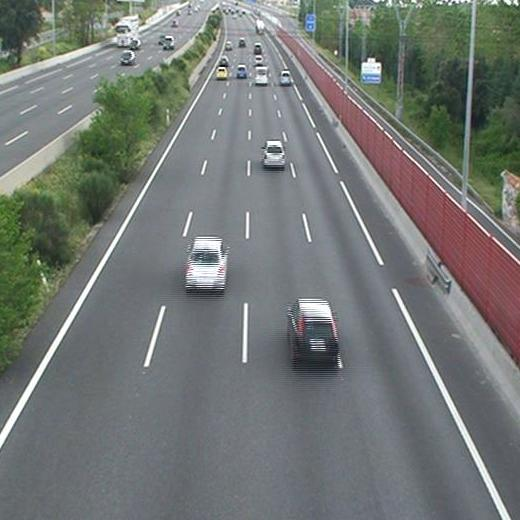car: (289, 300, 338, 358), (184, 237, 226, 289), (262, 140, 285, 166), (279, 71, 291, 85), (236, 66, 247, 78), (216, 67, 227, 79), (219, 56, 229, 66), (253, 43, 262, 53), (254, 56, 263, 65), (224, 41, 232, 50), (238, 39, 245, 47)
van: (256, 67, 269, 84)
